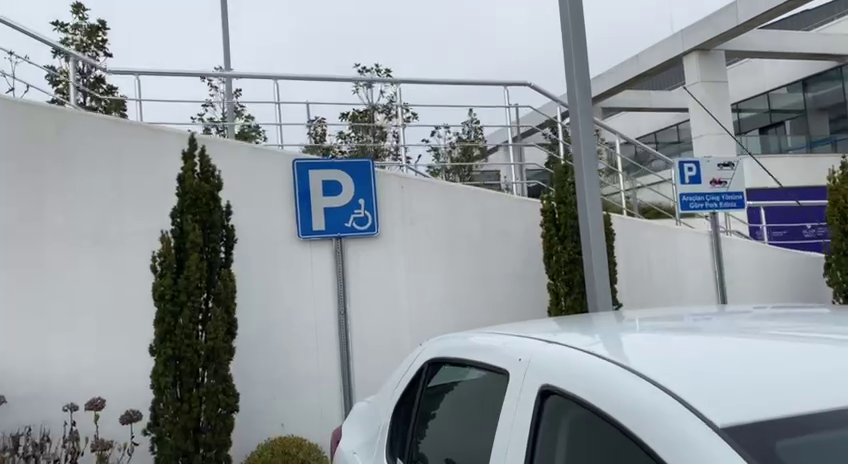parking: (291, 155, 380, 240), (680, 157, 704, 185)
